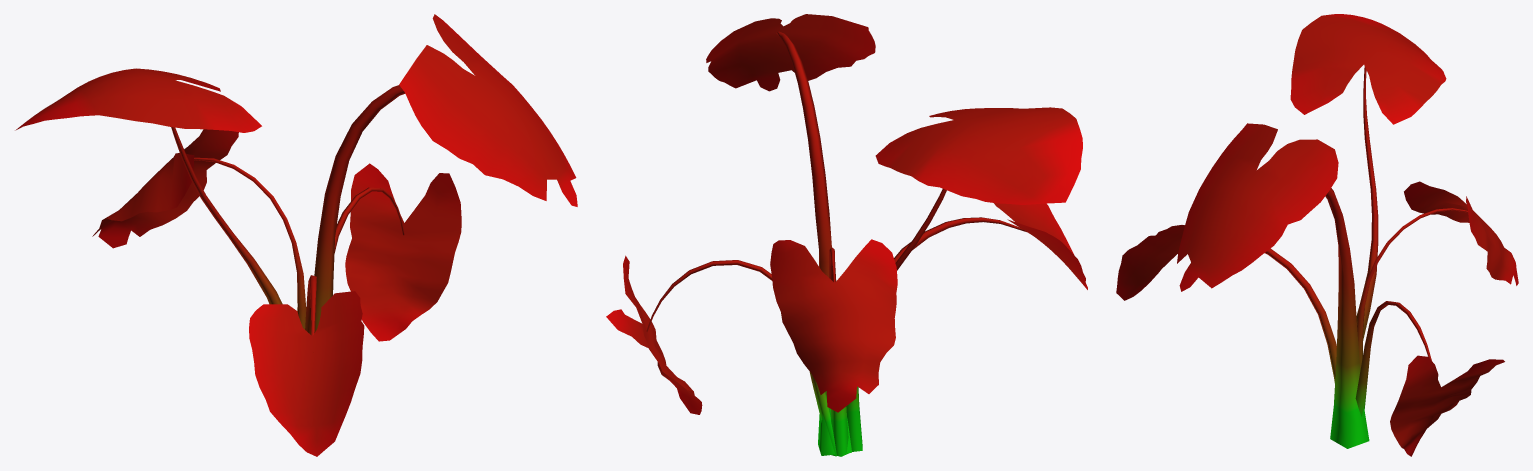
Rendered from F01_Taro_06.fbx.
3 renders of one model, left to right at view 1: azimuth 30°, elevation 25°; view 2: azimuth 150°, elevation 25°; view 3: azimuth 270°, elevation 25°, orthographic. The views are drawn at different scales.
Visible parts, largest first — view 1: _e5eb_Var6_LOD0; view 2: _e5eb_Var6_LOD0; view 3: _e5eb_Var6_LOD0.
Boxes of the visible parts, bbox=[...] form: _e5eb_Var6_LOD0: bbox=[15, 14, 577, 456]; _e5eb_Var6_LOD0: bbox=[606, 14, 1087, 456]; _e5eb_Var6_LOD0: bbox=[1116, 14, 1518, 456].
Size of the model in its own units: 124 by 106 by 112.
